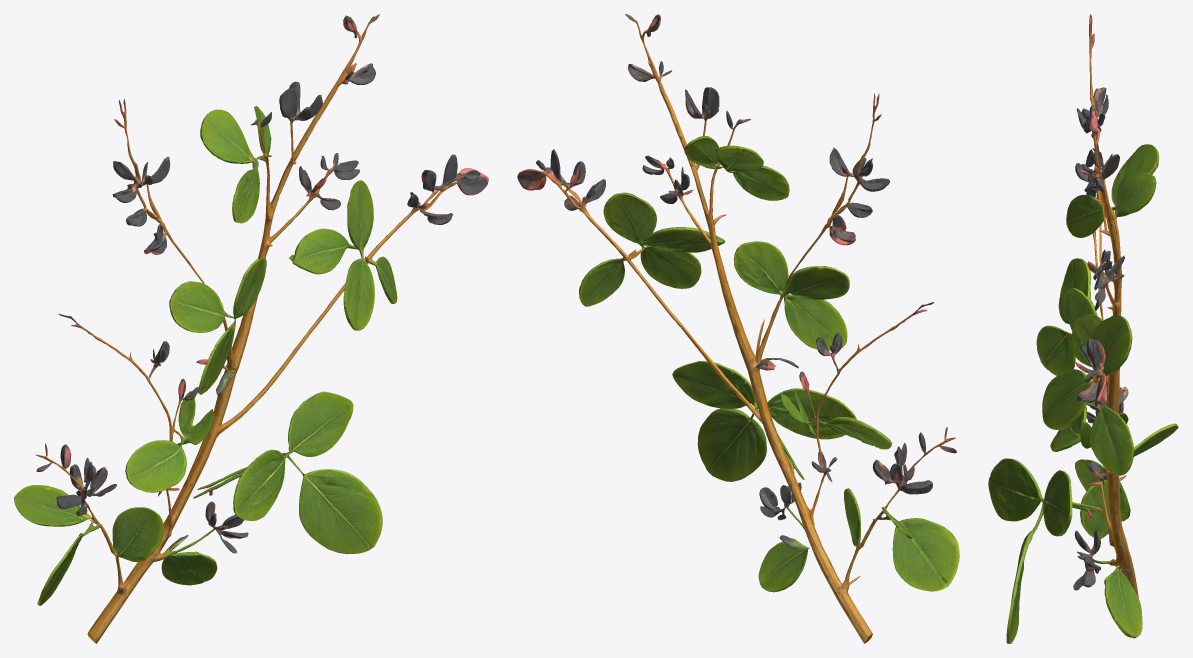
File: GreenBushClover.glb
3 renders of one model, left to right at view 1: azimuth 30°, elevation 25°; view 2: azimuth 150°, elevation 25°; view 3: azimuth 270°, elevation 25°, orthographic. The views are drawn at different scales.
Parts seen in each view (by area): view 1: Mesh_0; view 2: Mesh_0; view 3: Mesh_0.
Part boxes in pixels (x1=…): Mesh_0: x1=14, y1=14, x2=488, y2=643; Mesh_0: x1=517, y1=14, x2=959, y2=643; Mesh_0: x1=988, y1=14, x2=1178, y2=643.
Size of the model in its own units: 0.8148 by 1 by 0.2709.
Materials: 1 (1 with a texture image).
